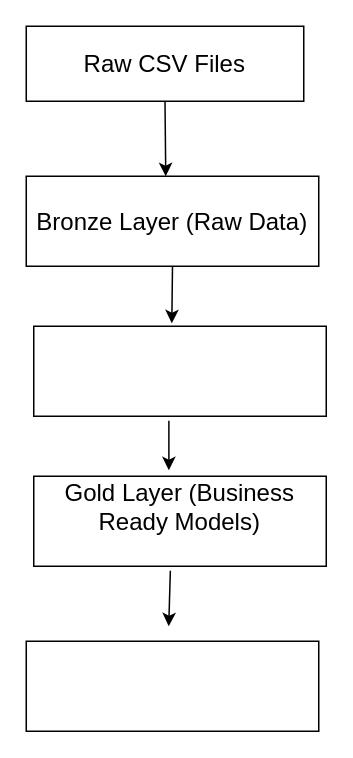
This 353x758 diagram has some shape labels left out. The box of each missing label's shape, as (x1, y1, x2, y2) in pixels:
Power BI Dashboard: (25, 640, 319, 731)
Silver Layer (Cleaned & Validated): (32, 325, 326, 416)
